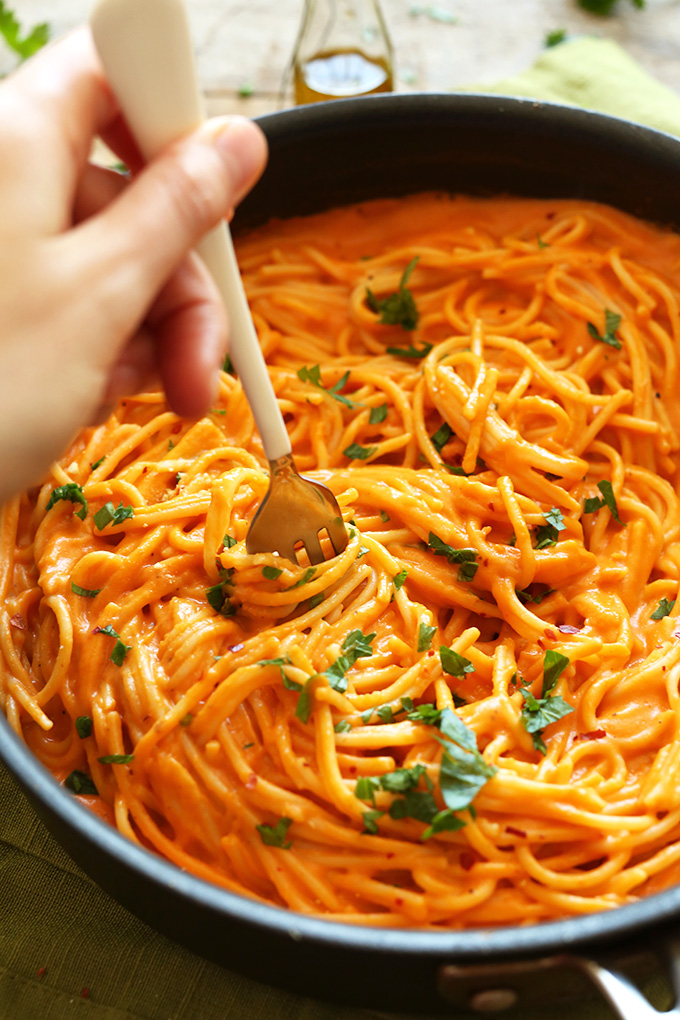plain spaghetti: (12, 198, 680, 922)
